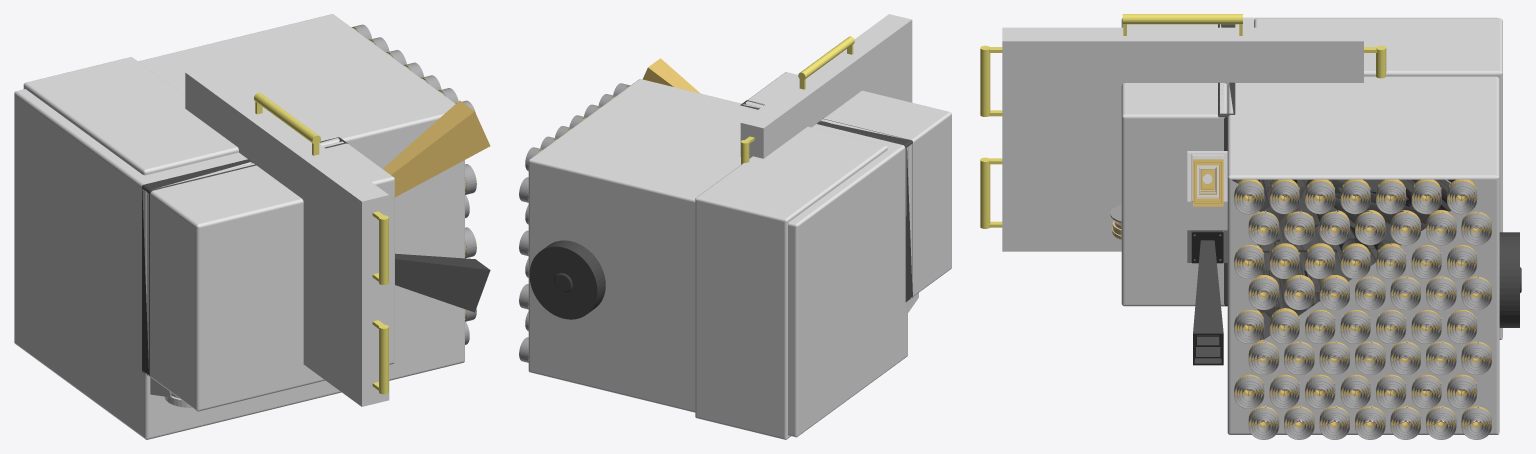
Rendered from Station Explorer for X-Ray Timing and Navigation (SEXTANT).glb.
3 renders of one model, left to right at view 1: azimuth 30°, elevation 25°; view 2: azimuth 150°, elevation 25°; view 3: azimuth 270°, elevation 25°, orthographic. The views are drawn at different scales.
Parts seen in each view (by area): view 1: Layer_4, Layer_1, Layer_3; view 2: Layer_4, Layer_1, Layer_3; view 3: Layer_4, Layer_3, Layer_1.
Part boxes in pixels (x1,y1,x2,y2): Layer_4: [14, 14, 490, 439]; Layer_1: [185, 66, 389, 406]; Layer_3: [351, 24, 476, 344]; Layer_4: [528, 58, 951, 439]; Layer_1: [740, 14, 912, 164]; Layer_3: [519, 83, 630, 362]; Layer_4: [1121, 17, 1521, 434]; Layer_3: [1234, 179, 1491, 439]; Layer_1: [980, 14, 1386, 251].
Size of the model in its own units: 116 by 105 by 159.
